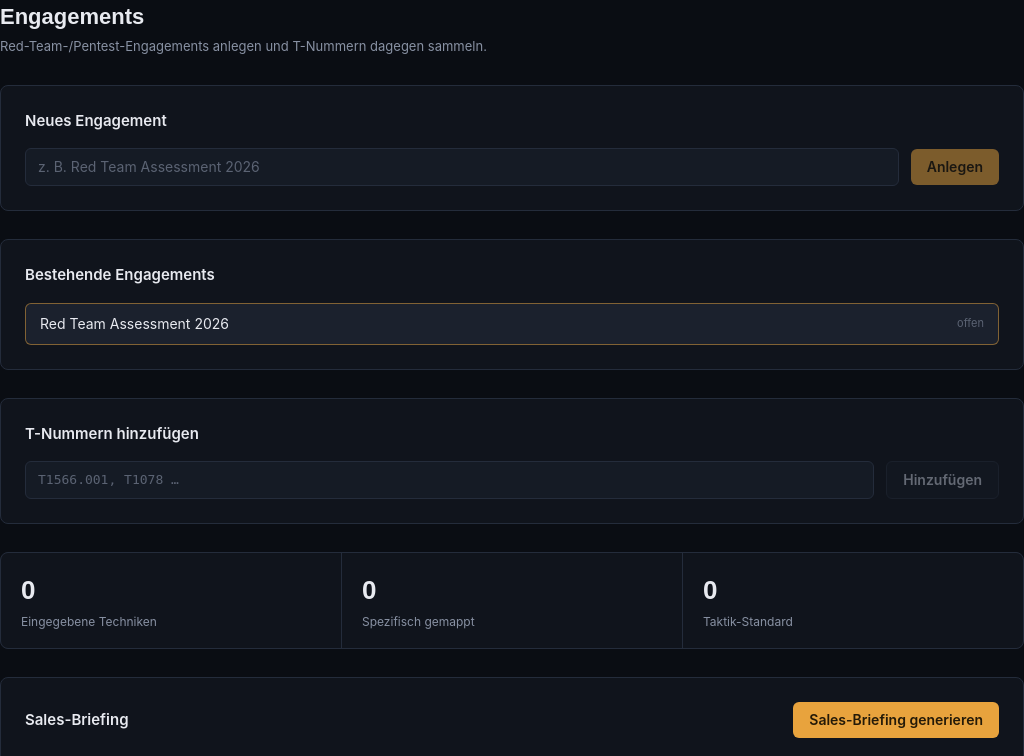
Scenario: Engagements › zeigt den Übergang von "kein Briefing" zu "ready" nach dem Generieren, ohne manuelles Neuladen
Click the text "Red Team Assessment 2026".
click(134, 324)  # box [40, 314, 229, 334]
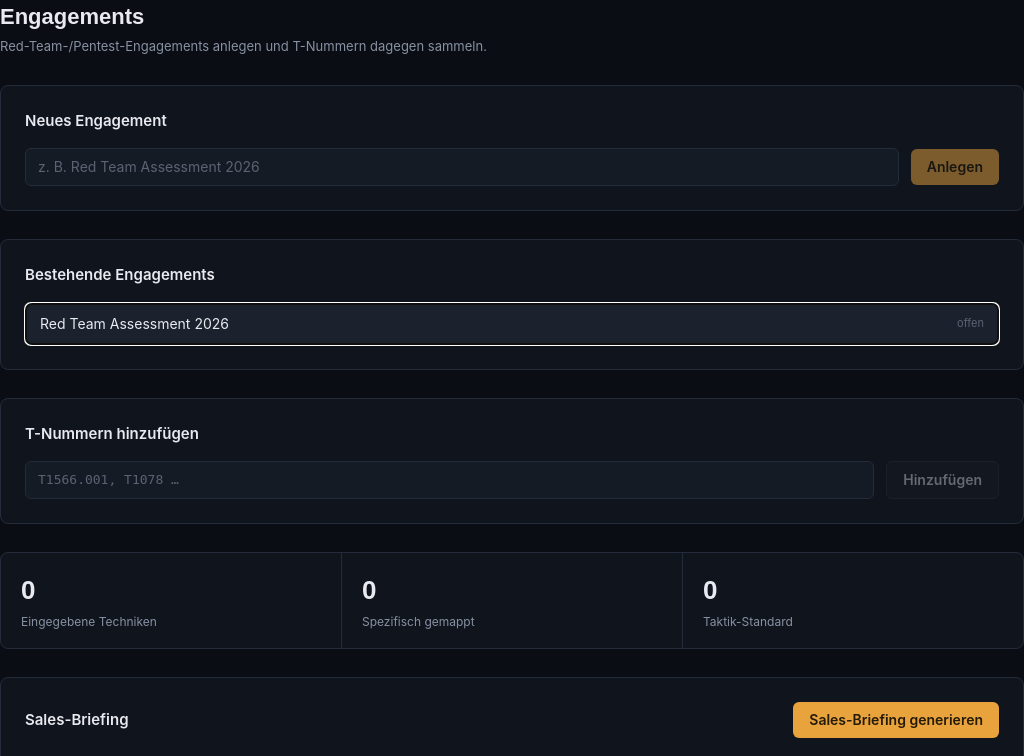
Click the button "Sales-Briefing generieren".
click(896, 720)  # box [793, 702, 999, 738]
(page scrolled)
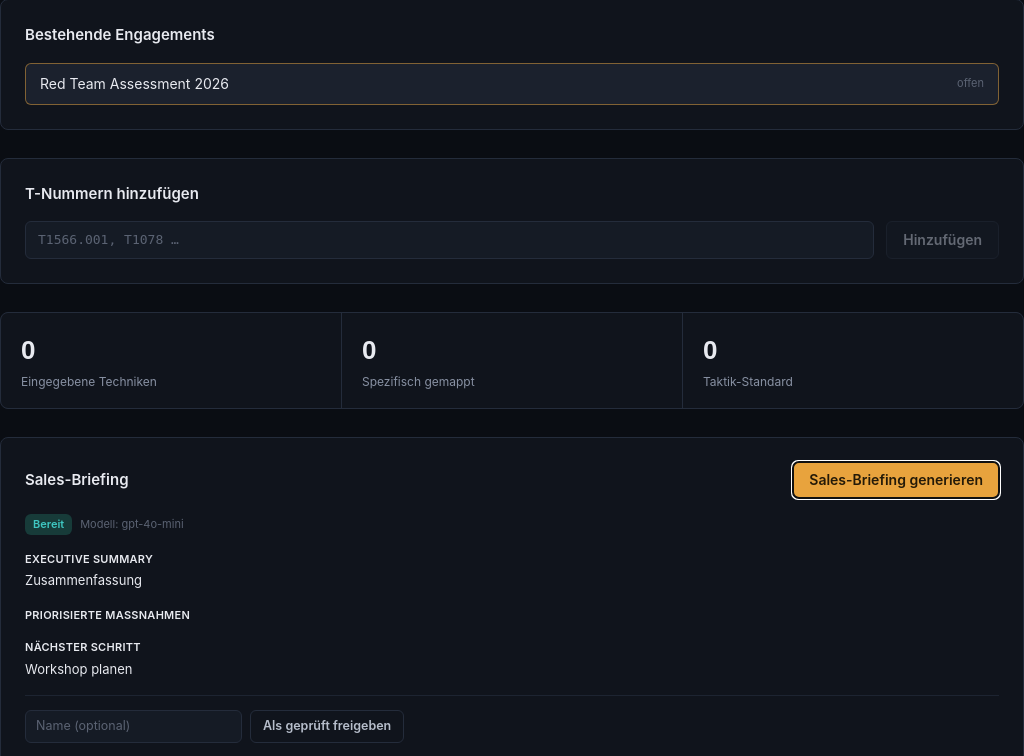
Expected: the text "Zusammenfassung" is shown, [25, 572, 142, 588]
